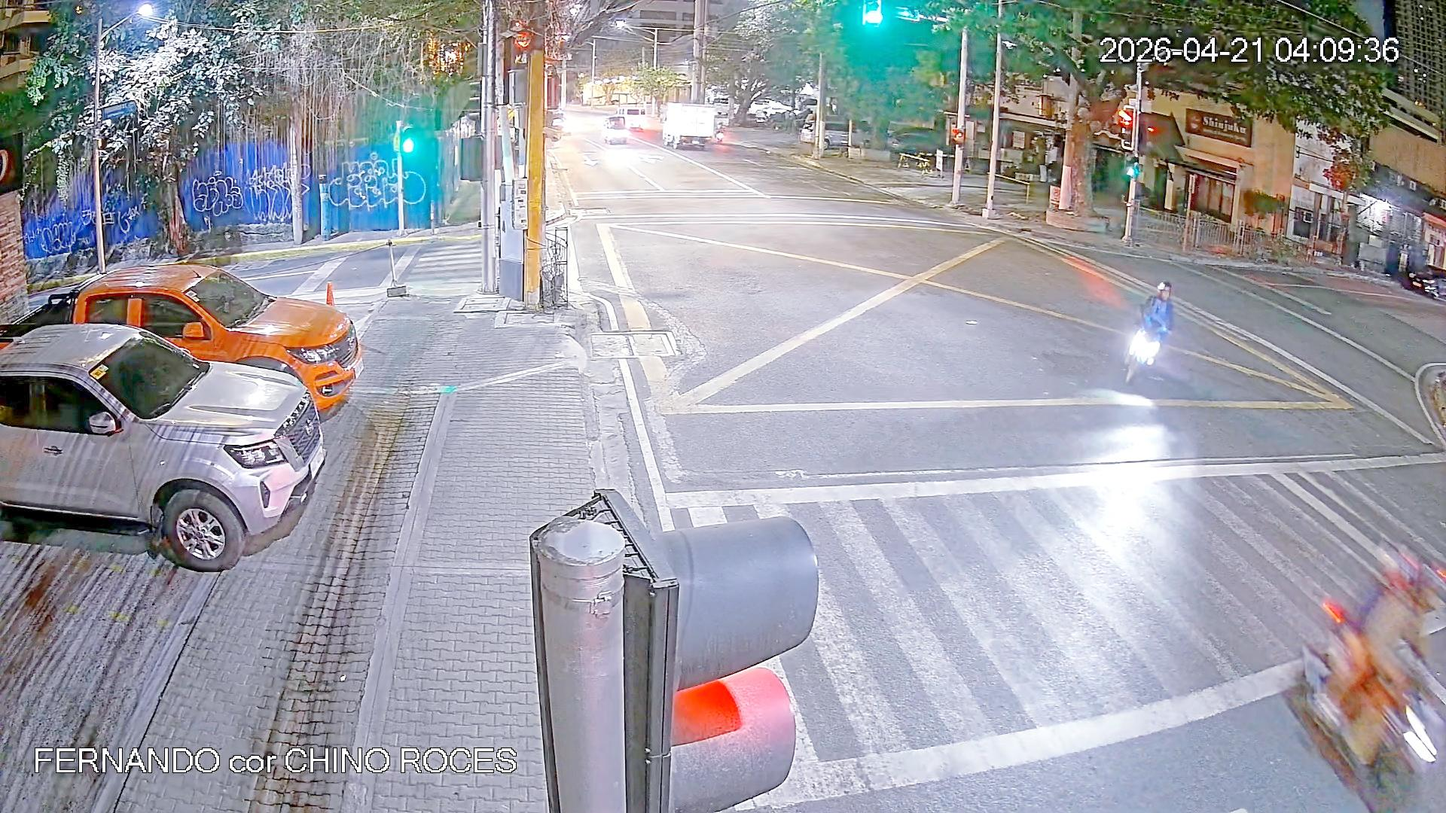Car: (0, 274, 331, 592), (56, 226, 374, 412), (657, 100, 718, 158), (590, 109, 646, 159), (613, 101, 660, 141)
Motor: (1295, 509, 1446, 813), (1109, 271, 1207, 422)
